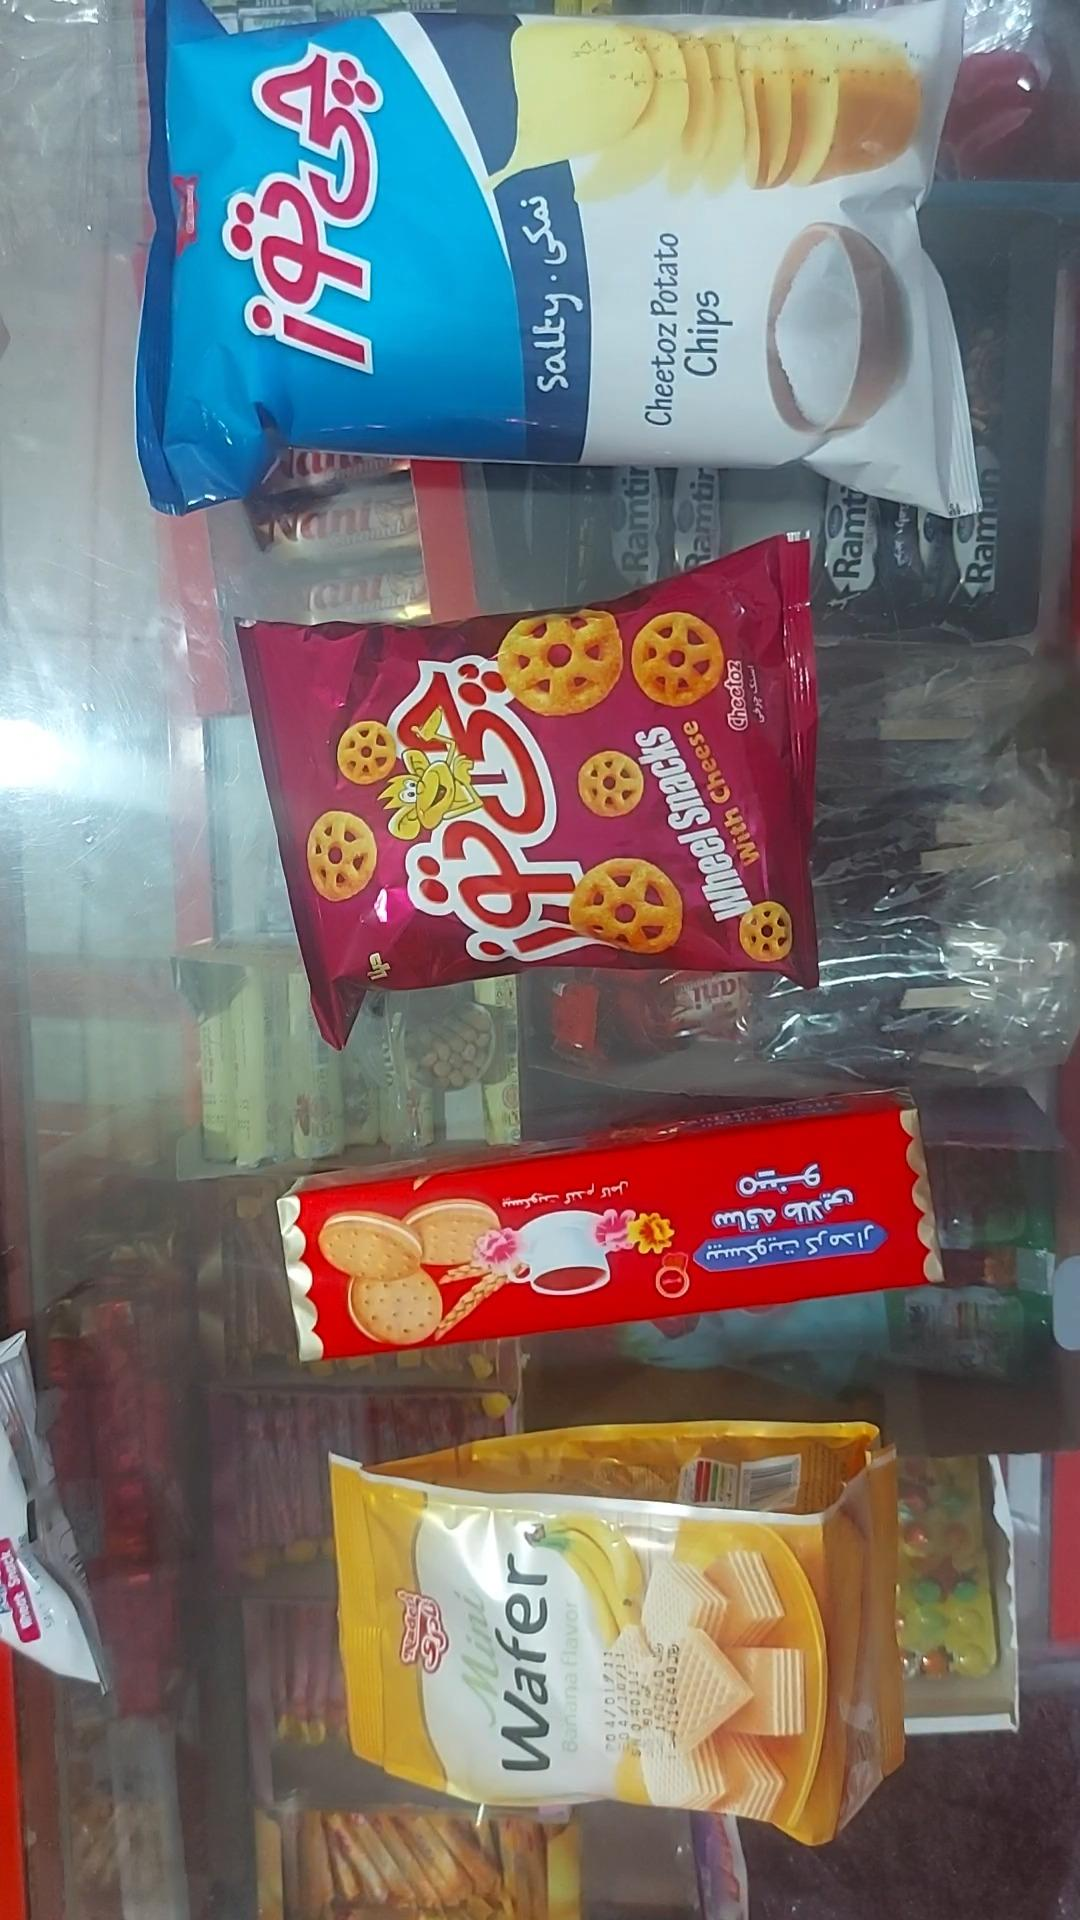Cheetoz salty chips: (133, 0, 982, 520)
Cheetoz wheelsnack: (236, 535, 820, 1054)
Minoo cream biscuit: (276, 1093, 942, 1364)
Naderi mini wafer: (327, 1422, 905, 1847)
